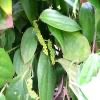Bell_pepper leaf: (57, 27, 92, 63), (40, 7, 83, 35), (37, 44, 57, 99), (6, 75, 33, 99), (21, 27, 38, 65)
